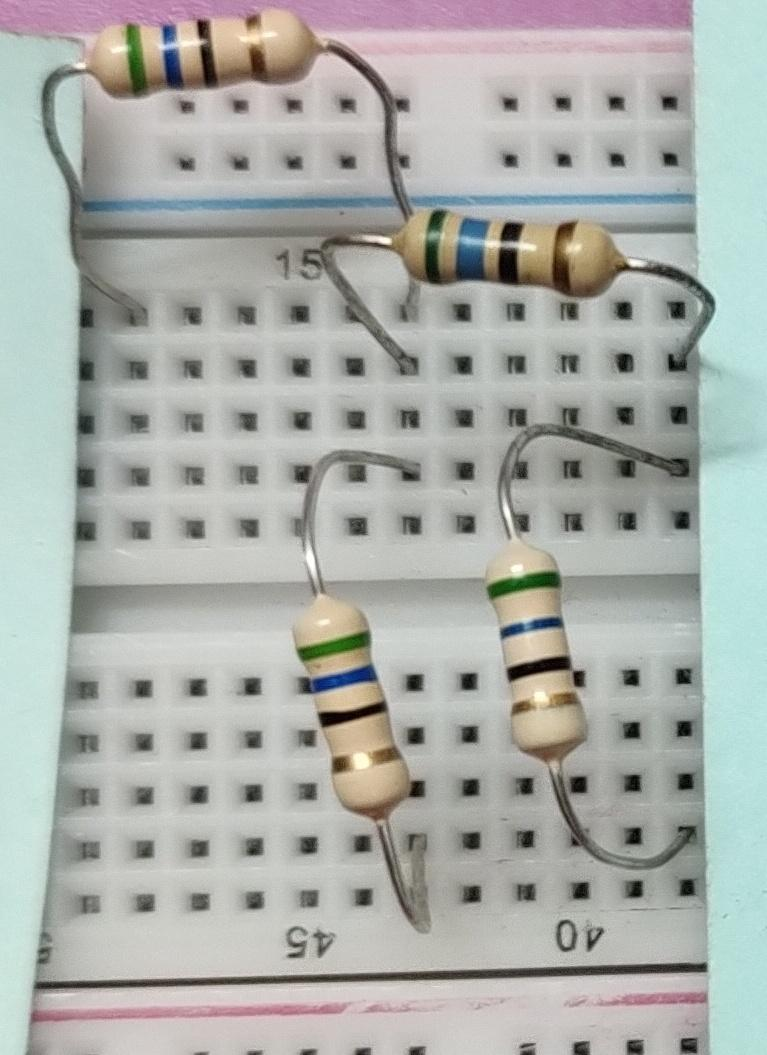resistor: (279, 591, 421, 827), (473, 527, 608, 764), (391, 191, 629, 309), (75, 3, 332, 101)
